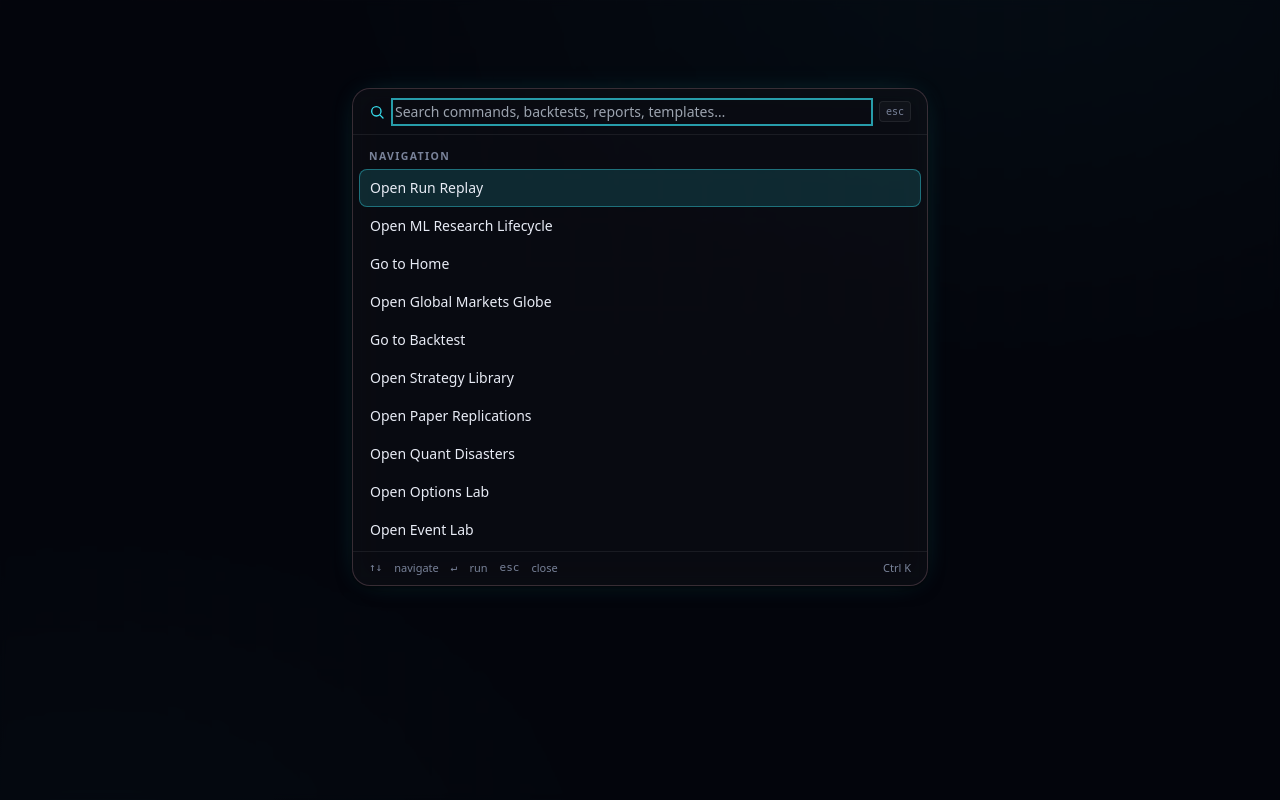
Test: CommandPalette › finds a workspace by a keyword alias that is never displayed
The width and height of the screenshot is (1280, 800).
// "dendrogram" appears only in the Signal Ensemble command's keywords.
Type "DENDROGRAM" into the field with placeholder "Search commands, backtests, reports, templates…".
click(632, 112); type("DENDROGRAM")  # box [395,102,869,122]
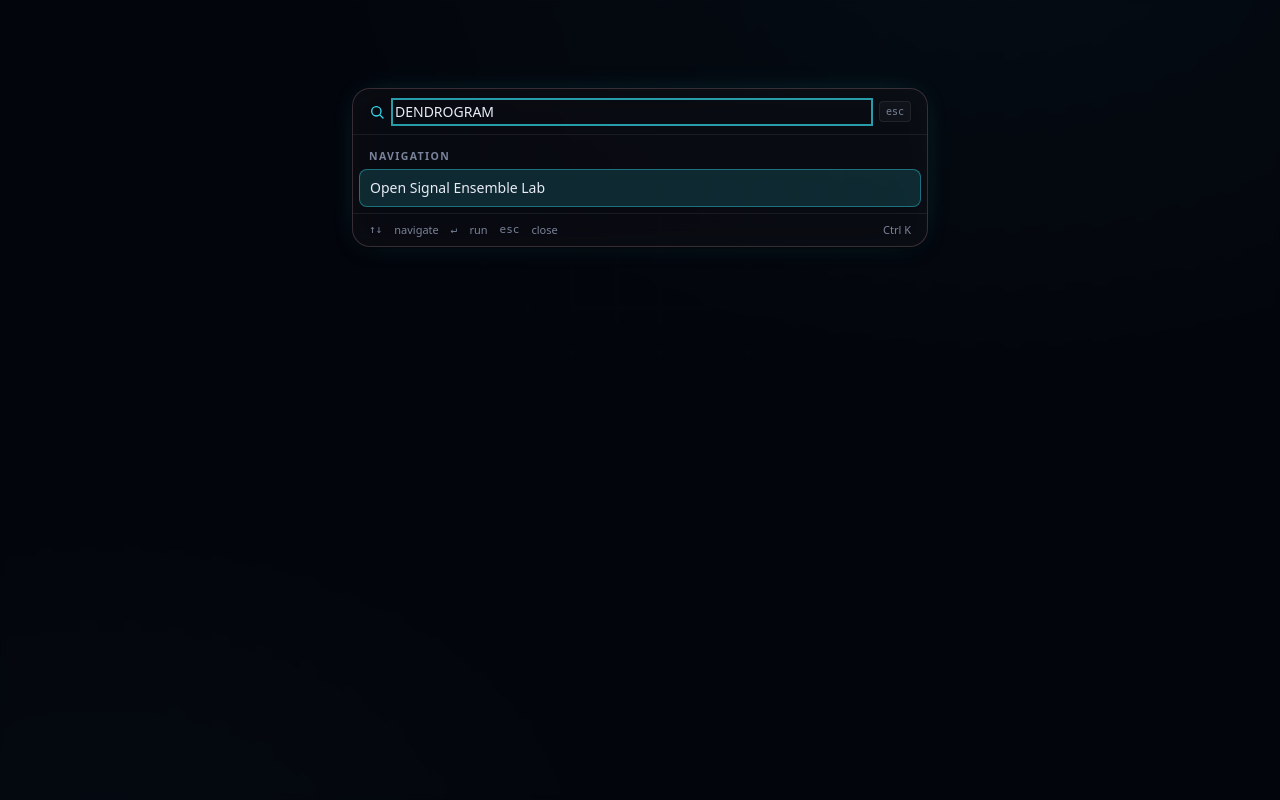
Expected: the button "Open Signal Ensemble Lab" does not show "dendrogram", [359,169,921,207]
Expected: the button "Open Signal Ensemble Lab" is shown, [359,169,921,207]
